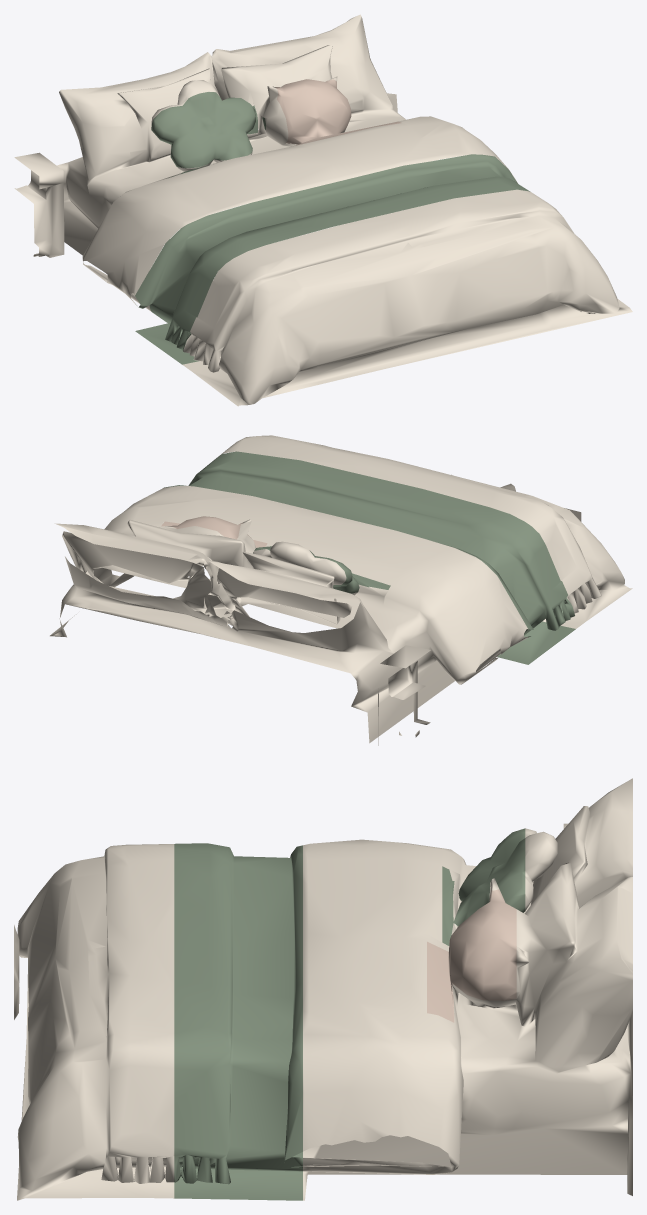
File: show_bed.glb
The picture shows the model from 3 angles, top to bottom: view 1: azimuth 30°, elevation 25°; view 2: azimuth 150°, elevation 25°; view 3: azimuth 270°, elevation 25°; orthographic projection. The views are drawn at different scales.
Bounding box in the file's own units: 3.65 × 1.32 × 3.65.
